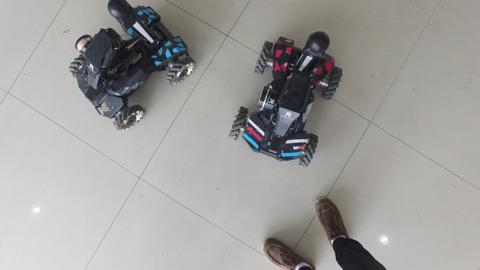chariot: (227, 24, 347, 176), (66, 1, 197, 136)
